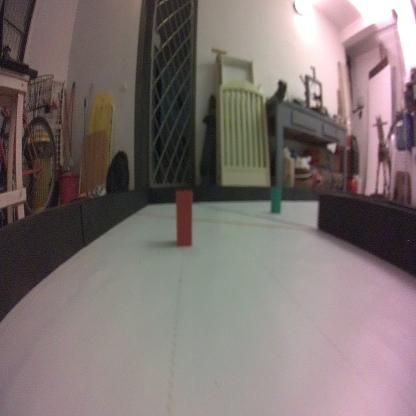green: (271, 186, 282, 214)
red: (174, 187, 196, 248)
